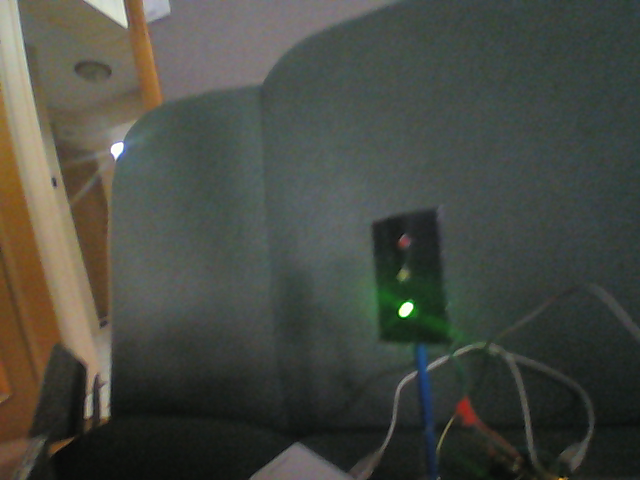green_sign: (367, 213, 454, 350)
